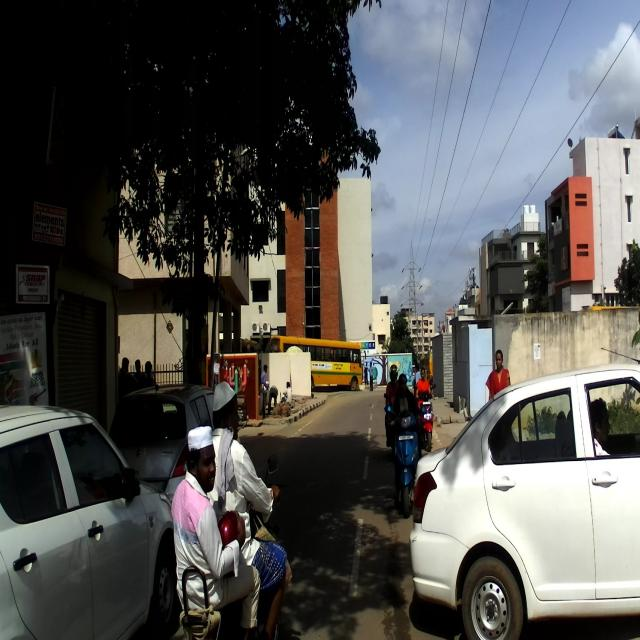car: (410, 348, 639, 638), (0, 405, 178, 638)
scooter: (386, 404, 425, 519)
